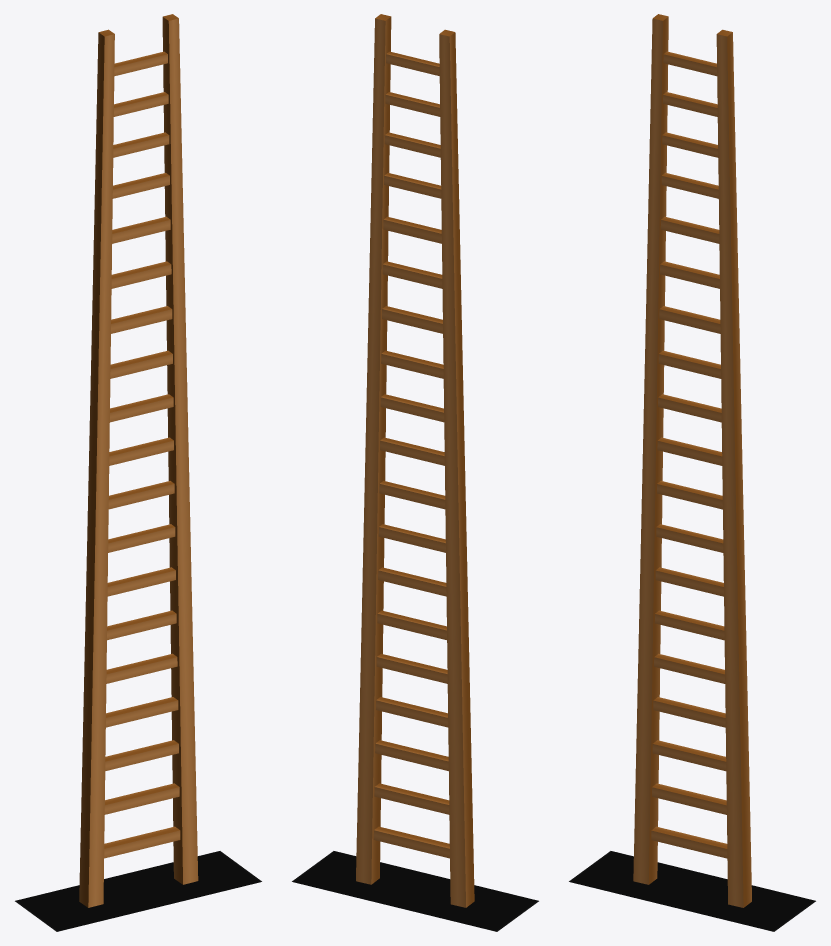
The model's file is ladder.fbx.
3 renders of one model, left to right at view 1: azimuth 30°, elevation 25°; view 2: azimuth 150°, elevation 25°; view 3: azimuth 330°, elevation 25°, orthographic.
Visible parts, largest first — view 1: pCylinder27, pCylinder2, shadow, pCylinder6, pCylinder7, pCylinder8, pCylinder9, pCylinder10, pCylinder11, pCylinder12, pCylinder13, pCylinder14 (+10 smaller); view 2: pCylinder27, pCylinder2, shadow, pCylinder6, pCylinder7, pCylinder8, pCylinder9, pCylinder10, pCylinder11, pCylinder12, pCylinder13, pCylinder14 (+10 smaller); view 3: pCylinder2, pCylinder27, shadow, pCylinder6, pCylinder7, pCylinder8, pCylinder9, pCylinder10, pCylinder11, pCylinder12, pCylinder13, pCylinder15 (+10 smaller).
Boxes of the visible parts, x1,y1,x2,y2 form: pCylinder27: (79,29,114,907); pCylinder2: (162,14,198,884); shadow: (15,851,261,931); pCylinder6: (104,826,180,858); pCylinder7: (104,783,179,814); pCylinder8: (105,740,178,770); pCylinder9: (106,697,178,727); pCylinder10: (106,653,177,683); pCylinder11: (107,610,176,640); pCylinder12: (107,567,175,596); pCylinder13: (108,524,175,552); pCylinder14: (108,481,174,509); pCylinder27: (439,29,474,907); pCylinder2: (356,14,391,884); shadow: (292,851,538,931); pCylinder6: (373,826,449,858); pCylinder7: (374,783,449,814); pCylinder8: (375,740,448,771); pCylinder9: (376,697,448,727); pCylinder10: (376,653,447,683); pCylinder11: (377,610,446,639); pCylinder12: (378,567,446,596); pCylinder13: (378,524,445,552); pCylinder14: (379,481,445,509); pCylinder2: (716,29,751,907); pCylinder27: (633,14,668,884); shadow: (569,851,815,931); pCylinder6: (651,826,727,858); pCylinder7: (652,783,726,814); pCylinder8: (652,740,726,771); pCylinder9: (653,697,725,727); pCylinder10: (654,653,725,683); pCylinder11: (654,610,724,640); pCylinder12: (655,567,723,596); pCylinder13: (656,524,723,552); pCylinder15: (657,437,722,465).
Bounding box in the file's own units: 4.96 × 19.94 × 1.77.
2 materials, 2 textured.
